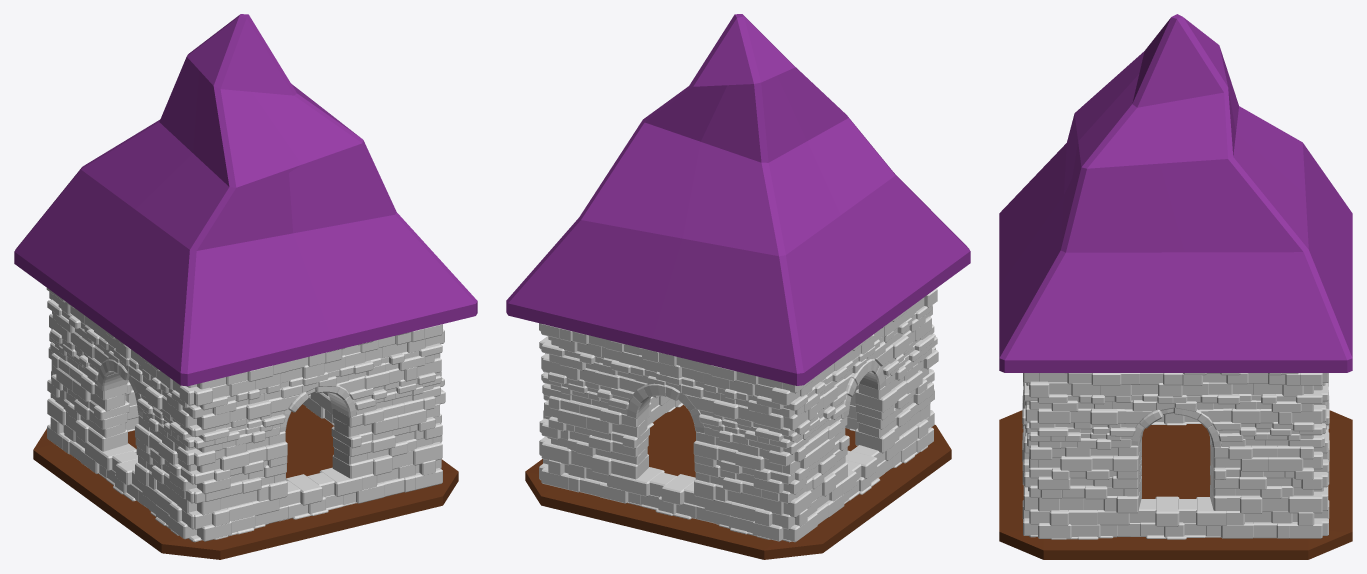
File: TowerTop.fbx
The picture shows the model from 3 angles, left to right: view 1: azimuth 30°, elevation 25°; view 2: azimuth 150°, elevation 25°; view 3: azimuth 270°, elevation 25°; orthographic projection. The views are drawn at different scales.
Parts seen in each view (by area): view 1: Cube.001, Wall.004, Wall.001, Cube, Wall.003, Wall.002; view 2: Cube.001, Wall.002, Wall.001, Cube, Wall.003; view 3: Cube.001, Wall.003, Cube, Wall.004, Wall.002.
Boxes of the visible parts, bbox=[...] form: Cube.001: bbox=[14, 14, 477, 386]; Wall.004: bbox=[191, 324, 442, 542]; Wall.001: bbox=[46, 288, 199, 541]; Cube: bbox=[33, 404, 458, 559]; Wall.003: bbox=[303, 329, 445, 468]; Wall.002: bbox=[48, 292, 138, 431]; Cube.001: bbox=[506, 14, 970, 385]; Wall.002: bbox=[541, 323, 795, 542]; Wall.001: bbox=[782, 288, 938, 542]; Cube: bbox=[525, 405, 951, 559]; Wall.003: bbox=[539, 323, 683, 480]; Cube.001: bbox=[999, 14, 1352, 372]; Wall.003: bbox=[1029, 373, 1322, 539]; Cube: bbox=[999, 410, 1352, 559]; Wall.004: bbox=[1022, 373, 1038, 535]; Wall.002: bbox=[1314, 373, 1329, 535].
Size of the model in its own units: 500 by 734 by 500.
